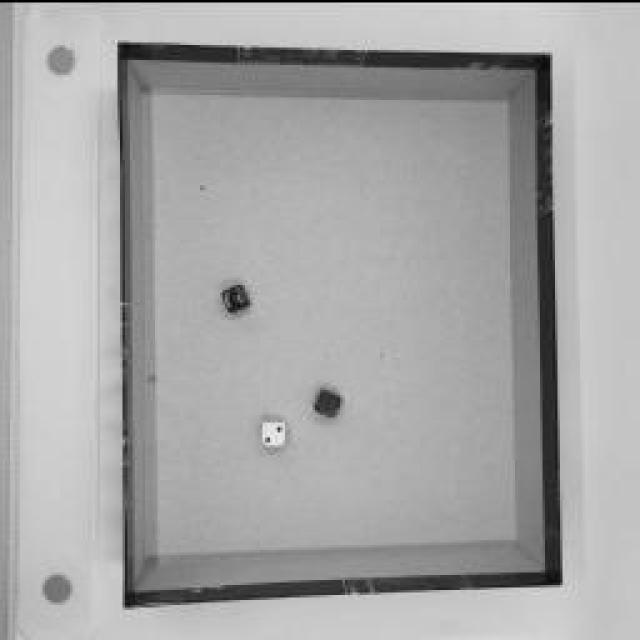dice_1: (219, 282, 251, 312)
dice_2: (260, 415, 285, 445)
dice_6: (310, 382, 345, 418)
